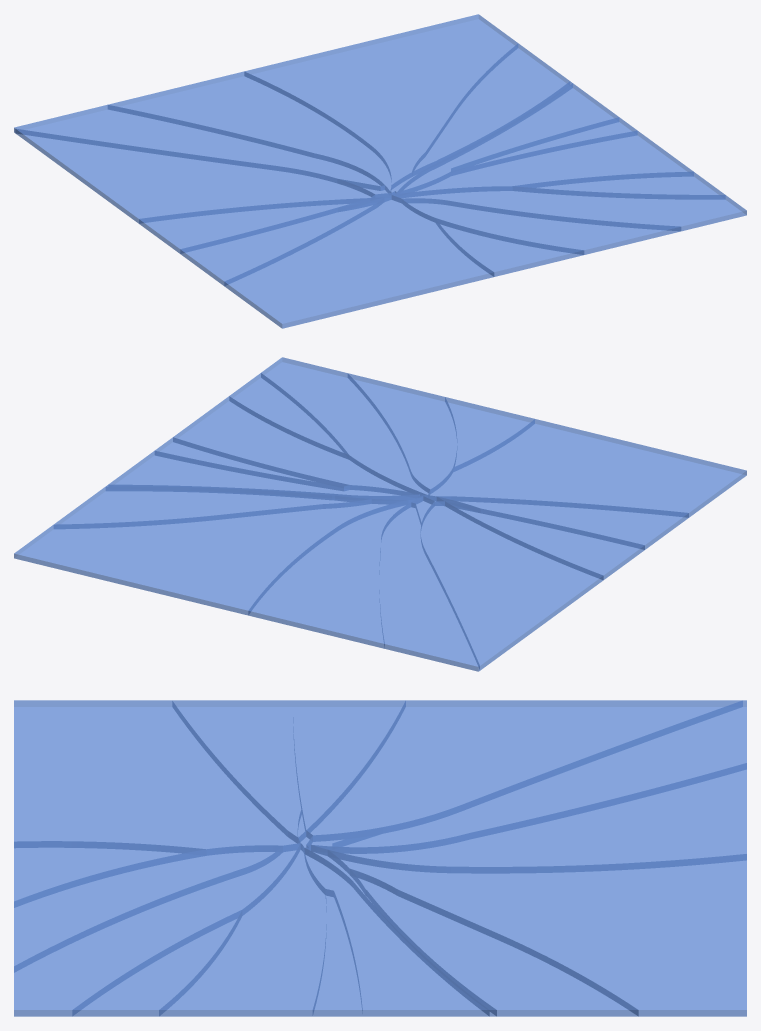
File: GlassBroken01.fbx
3 renders of one model, top to bottom at view 1: azimuth 30°, elevation 25°; view 2: azimuth 150°, elevation 25°; view 3: azimuth 270°, elevation 25°, orthographic. The views are drawn at different scales.
Visible parts, largest first — view 1: Shard11_1, Shard01_1, Shard14_1, Shard12_1, Shard13_1, Shard04_1, Shard06_1, Shard10_1, Shard03_1, Shard08_1, Shard16_1, Shard15_1 (+4 smaller); view 2: Shard11_1, Shard01_1, Shard14_1, Shard12_1, Shard13_1, Shard06_1, Shard04_1, Shard10_1, Shard03_1, Shard16_1, Shard08_1, Shard15_1 (+4 smaller); view 3: Shard11_1, Shard01_1, Shard14_1, Shard12_1, Shard13_1, Shard04_1, Shard06_1, Shard10_1, Shard03_1, Shard08_1, Shard16_1, Shard15_1 (+5 smaller).
Boxes of the visible parts, box(x1,y1,x2,y2) form: Shard11_1: box(244, 14, 517, 189); Shard01_1: box(224, 195, 494, 328); Shard14_1: box(15, 128, 374, 223); Shard12_1: box(108, 71, 391, 192); Shard13_1: box(14, 104, 384, 190); Shard04_1: box(392, 186, 746, 231); Shard06_1: box(392, 130, 693, 197); Shard10_1: box(412, 43, 570, 176); Shard03_1: box(402, 198, 681, 254); Shard08_1: box(397, 83, 618, 193); Shard16_1: box(180, 197, 383, 285); Shard15_1: box(139, 198, 369, 253); Shard11_1: box(14, 499, 407, 615); Shard01_1: box(428, 419, 746, 517); Shard14_1: box(420, 501, 603, 670); Shard12_1: box(248, 497, 421, 648); Shard13_1: box(379, 502, 479, 671); Shard06_1: box(173, 396, 426, 494); Shard04_1: box(261, 357, 430, 494); Shard10_1: box(54, 486, 371, 528); Shard03_1: box(348, 373, 457, 492); Shard16_1: box(437, 496, 688, 549); Shard08_1: box(108, 450, 418, 499); Shard15_1: box(445, 501, 644, 580); Shard11_1: box(328, 849, 746, 1016); Shard01_1: box(14, 700, 300, 855); Shard14_1: box(306, 700, 742, 841); Shard12_1: box(311, 763, 746, 873); Shard13_1: box(332, 700, 746, 853); Shard04_1: box(14, 843, 300, 1016); Shard06_1: box(159, 843, 326, 1016); Shard10_1: box(350, 868, 638, 1016); Shard03_1: box(14, 845, 282, 971); Shard08_1: box(304, 848, 489, 1016); Shard16_1: box(172, 700, 301, 842); Shard15_1: box(293, 700, 405, 832).
Bounding box in the file's own units: 1000 × 10 × 1000.
